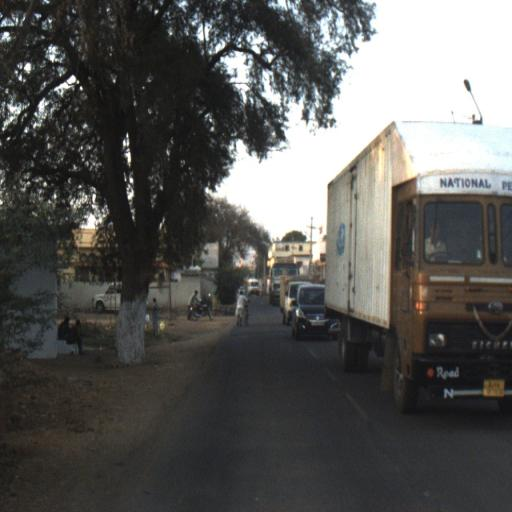street_light_0: (463, 78, 481, 121)
